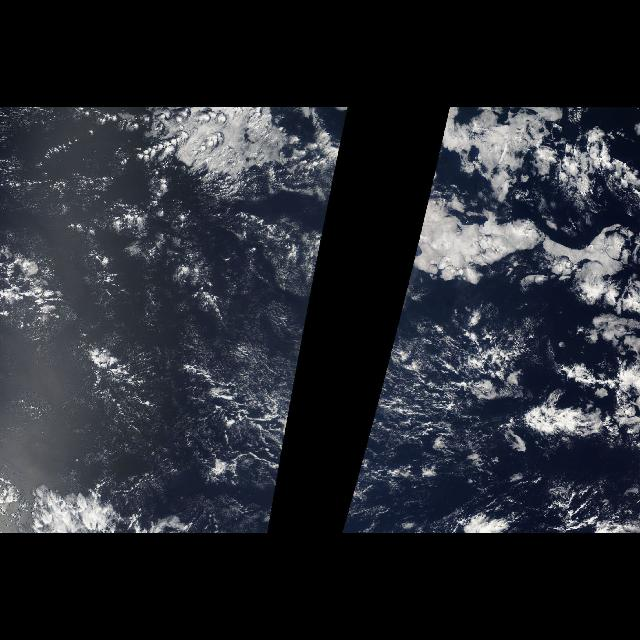Sugar: (160, 326, 290, 392)
